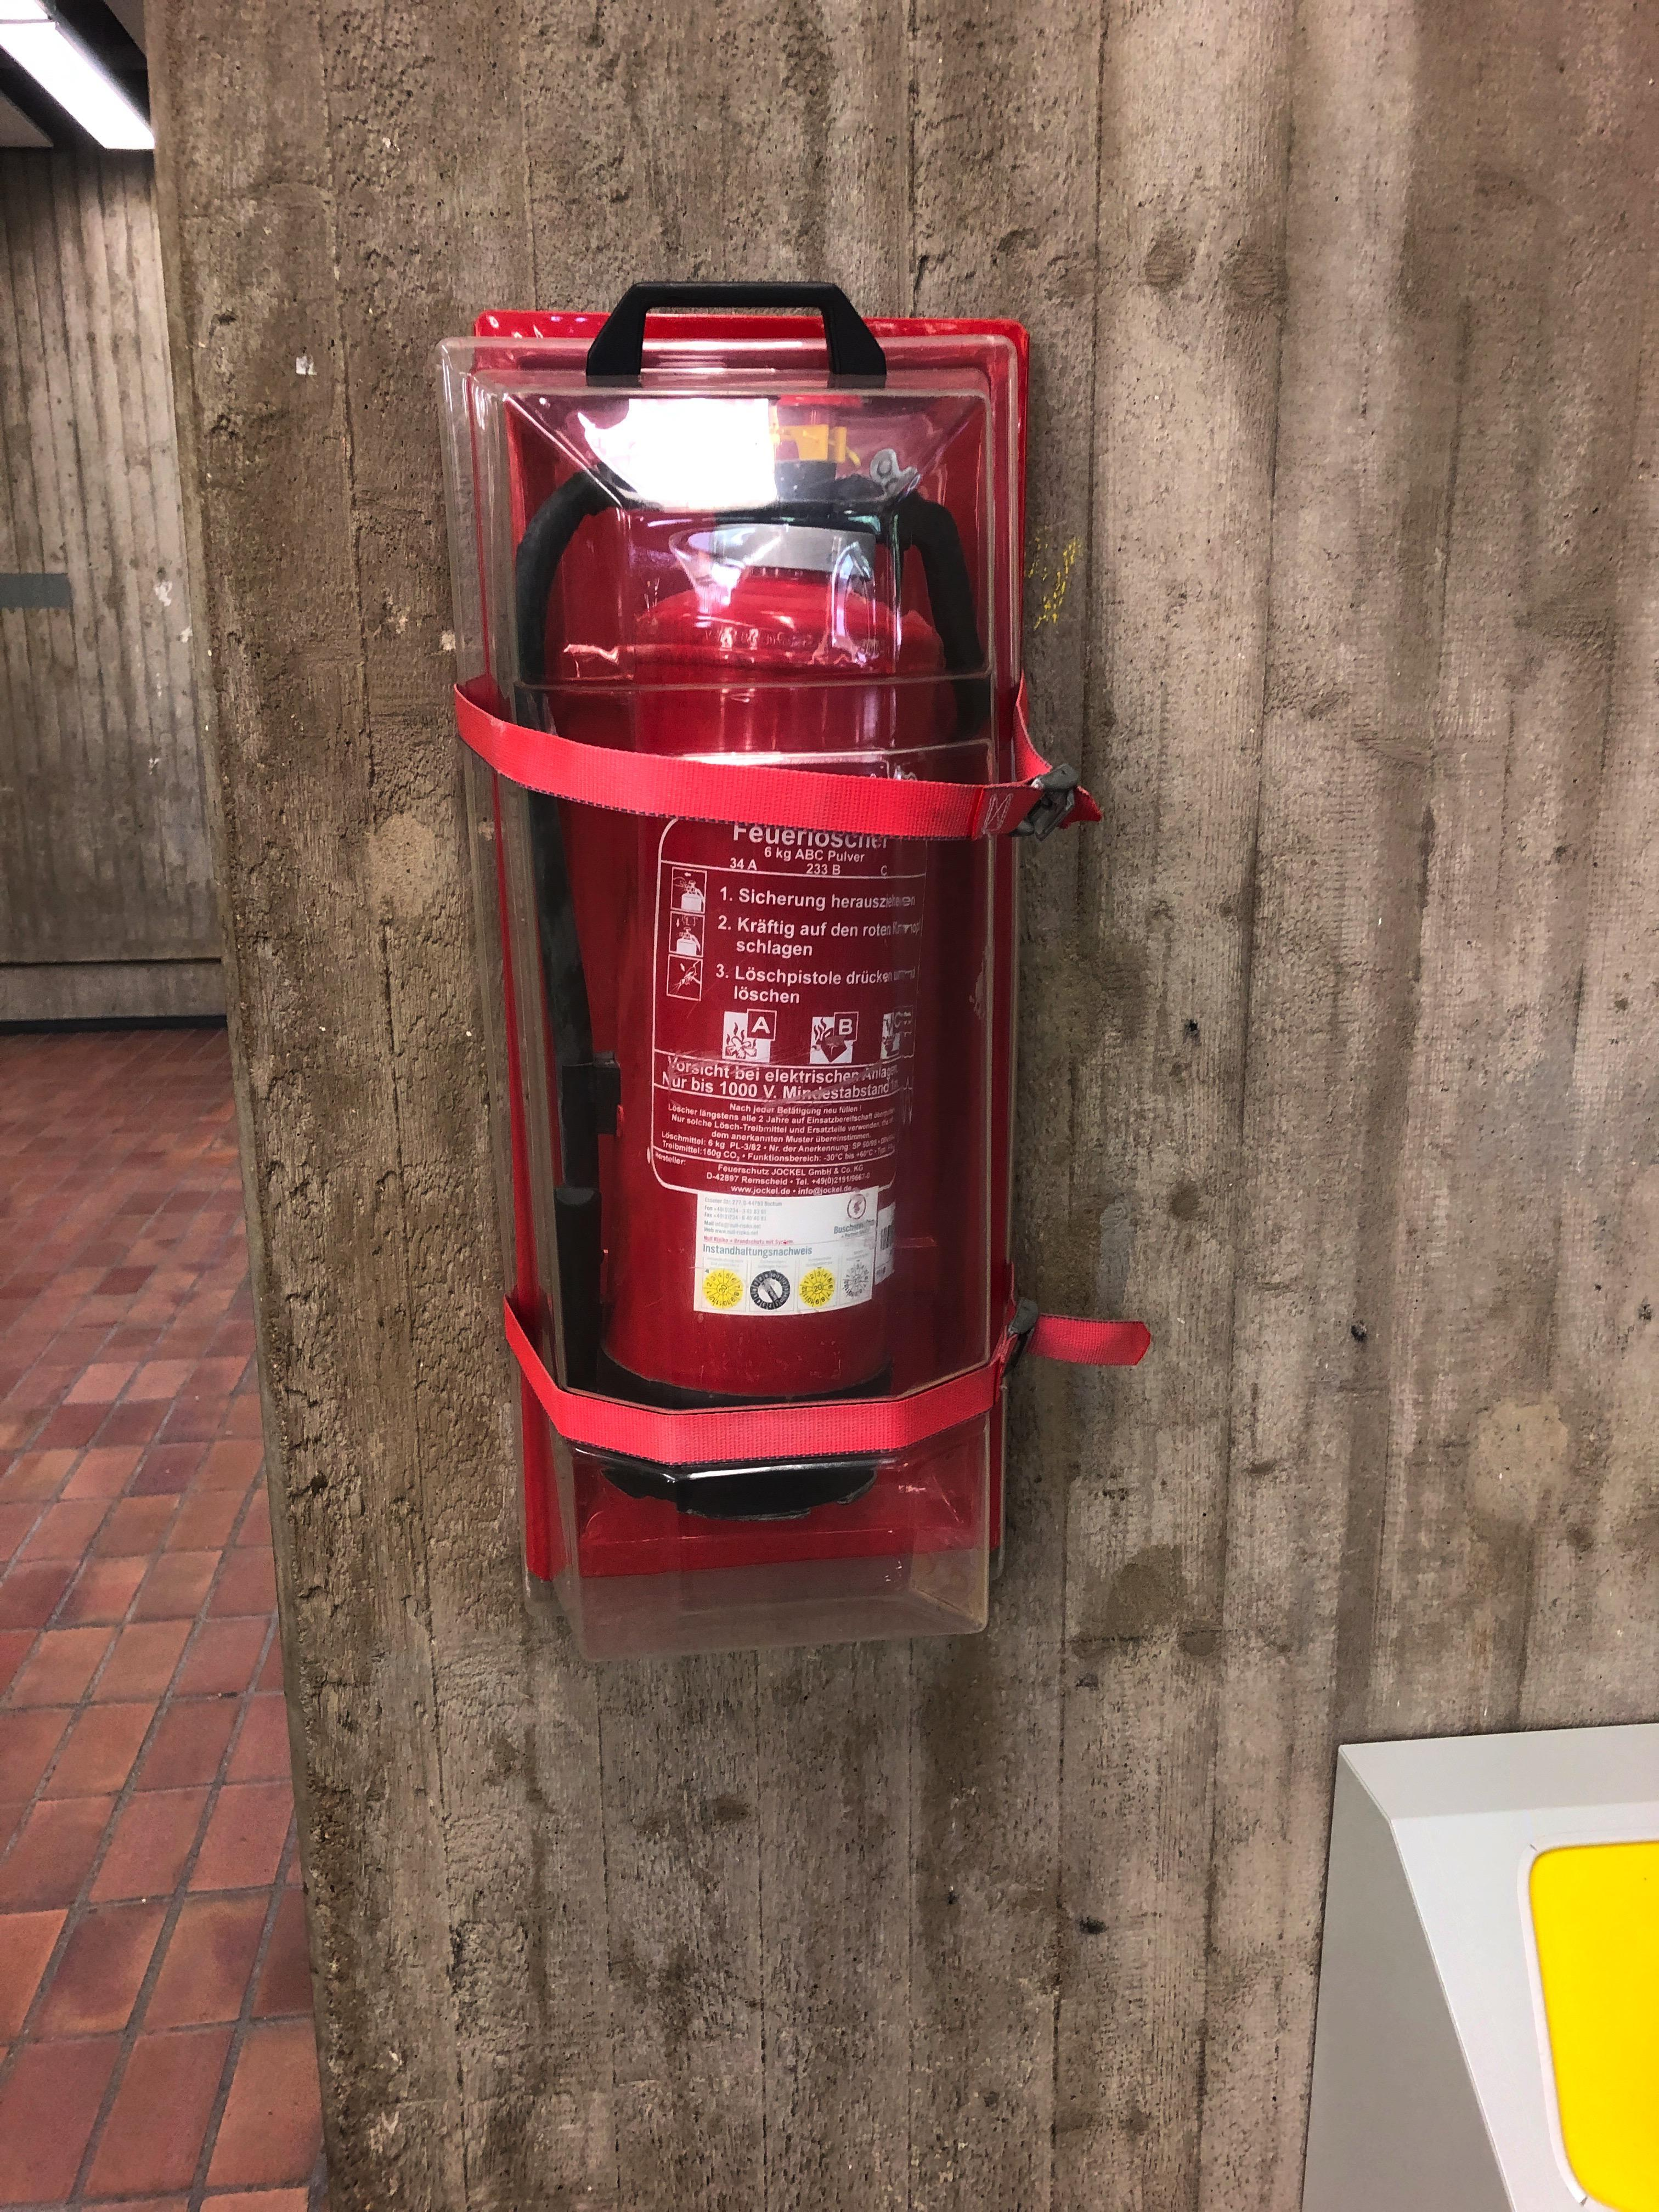extinguisher: (455, 303, 1012, 1622)
